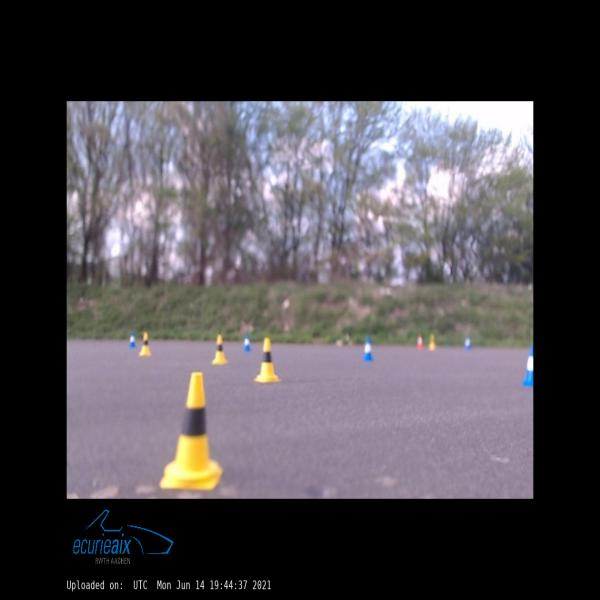blue_cone: (522, 346, 533, 386), (363, 338, 373, 360), (243, 335, 251, 351), (465, 336, 471, 350), (130, 332, 135, 347)
orange_cone: (417, 335, 423, 349)
yellow_cone: (159, 372, 223, 490), (254, 338, 281, 381), (212, 334, 227, 364), (140, 332, 152, 356), (428, 334, 436, 350)
